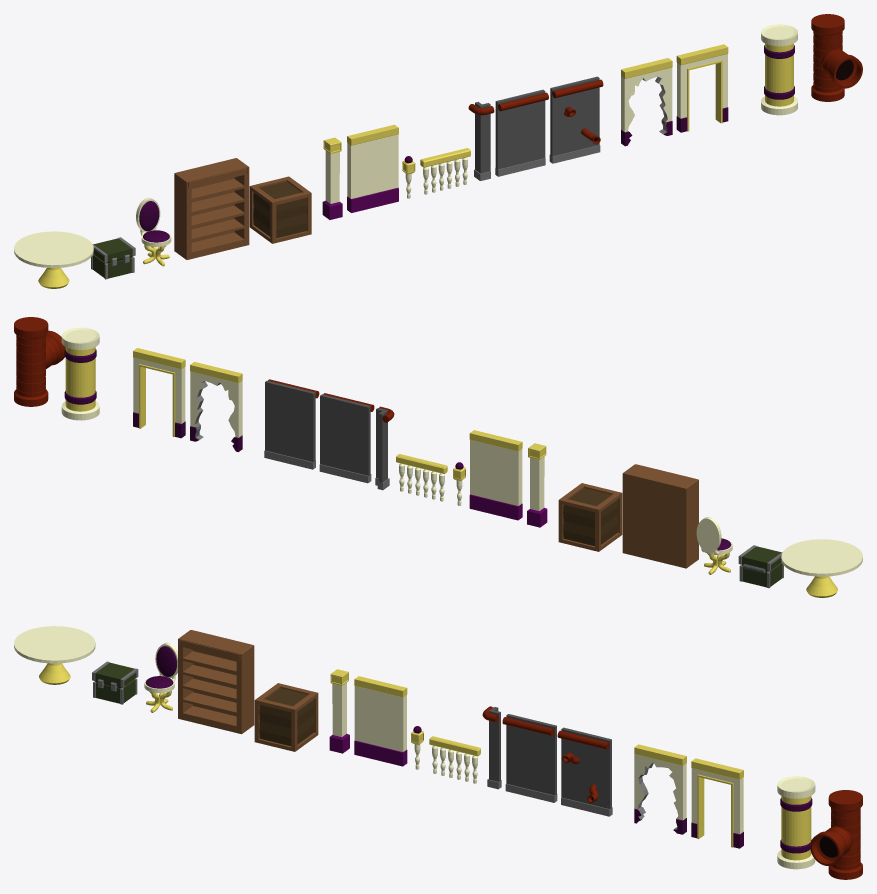
The model's file is tileset.fbx.
3 views of the same model, one above another, from view 1: azimuth 30°, elevation 25°; view 2: azimuth 150°, elevation 25°; view 3: azimuth 330°, elevation 25° (orthographic). The views are drawn at different scales.
Visible parts, largest first — view 1: Bookshelf, FancyWall, TubeWall, TubeWallDecor, Crate, PipePillar, Table, FancyPillar, FancyDoor, CrackedDoor, Box, Chair (+3 smaller); view 2: Bookshelf, FancyWall, TubeWall, TubeWallDecor, Crate, PipePillar, FancyPillar, Table, FancyDoor, CrackedDoor, Box, FancyCorner (+3 smaller); view 3: Bookshelf, FancyWall, TubeWall, TubeWallDecor, Crate, PipePillar, Table, FancyPillar, FancyDoor, CrackedDoor, Box, Chair (+3 smaller).
Boxes of the visible parts, x1,y1,x2,y2 form: Bookshelf: (174, 158, 249, 259); FancyWall: (347, 124, 398, 212); TubeWall: (495, 89, 548, 176); TubeWallDecor: (549, 76, 603, 163); Crate: (249, 176, 311, 243); PipePillar: (811, 14, 862, 101); Table: (14, 231, 93, 288); FancyPillar: (761, 24, 797, 115); FancyDoor: (676, 44, 728, 132); CrackedDoor: (621, 58, 672, 146); Box: (91, 237, 135, 279); Chair: (136, 197, 171, 266); Bookshelf: (622, 464, 698, 568); FancyWall: (469, 430, 522, 520); TubeWall: (319, 393, 374, 483); TubeWallDecor: (264, 379, 319, 469); Crate: (558, 483, 622, 551); PipePillar: (14, 317, 65, 406); FancyPillar: (61, 327, 99, 420); Table: (781, 539, 862, 597); FancyDoor: (133, 348, 185, 438); CrackedDoor: (190, 362, 242, 452); Box: (738, 545, 783, 588); FancyCorner: (527, 443, 547, 527); Bookshelf: (178, 630, 254, 734); FancyWall: (354, 676, 407, 766); TubeWall: (502, 714, 557, 802); TubeWallDecor: (557, 727, 612, 816); Crate: (254, 683, 318, 751); PipePillar: (810, 790, 862, 879); Table: (14, 626, 95, 684); FancyPillar: (777, 776, 815, 869); FancyDoor: (691, 758, 743, 848); CrackedDoor: (634, 744, 686, 834); Box: (92, 661, 138, 704); Chair: (144, 642, 177, 712).
Size of the model in its own units: 26016 by 2215 by 2359.
